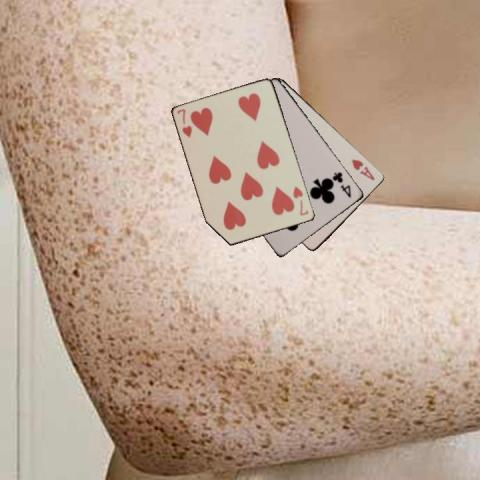4c: (330, 169, 353, 199)
7h: (290, 184, 310, 218), (175, 106, 193, 139)
Ah: (348, 156, 376, 182)
